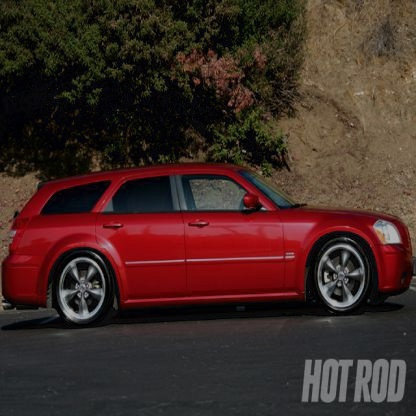Vehicle: (1, 165, 415, 331)
